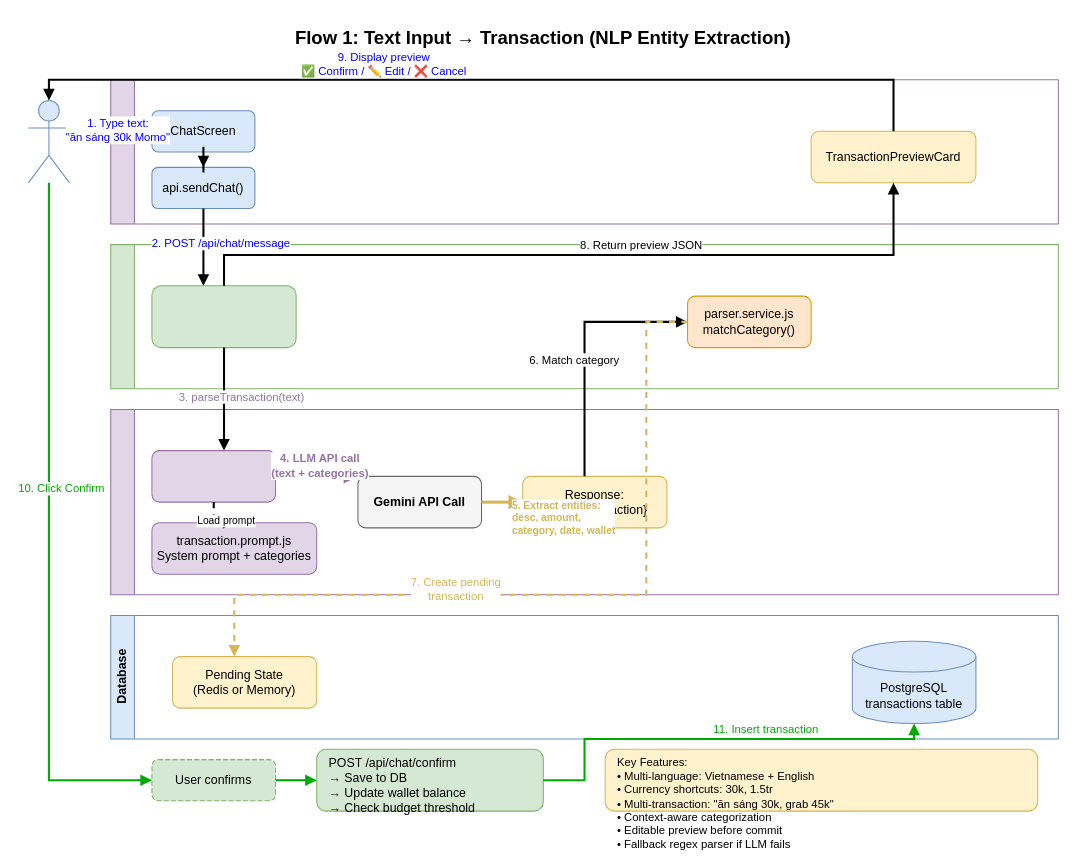
Some shapes in this 1076 by 868 pixel diagram are drawn without their labels. Each missing label, with the box of its shape:
AI Service Layer: (110, 408, 1058, 595)
ai.service.js parseTransaction(): (151, 450, 276, 502)
Backend (Express): (110, 244, 1058, 389)
chat.routes.js POST /api/chat/message: (151, 285, 296, 348)
Frontend (React Native): (110, 79, 1058, 224)
User: (27, 99, 70, 183)
